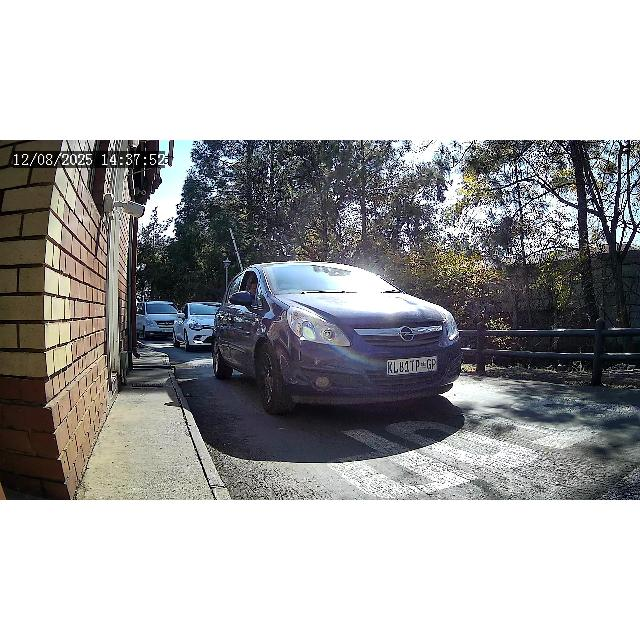car: (210, 260, 462, 416), (172, 301, 220, 351), (134, 302, 182, 341)
plate: (387, 358, 437, 374)
